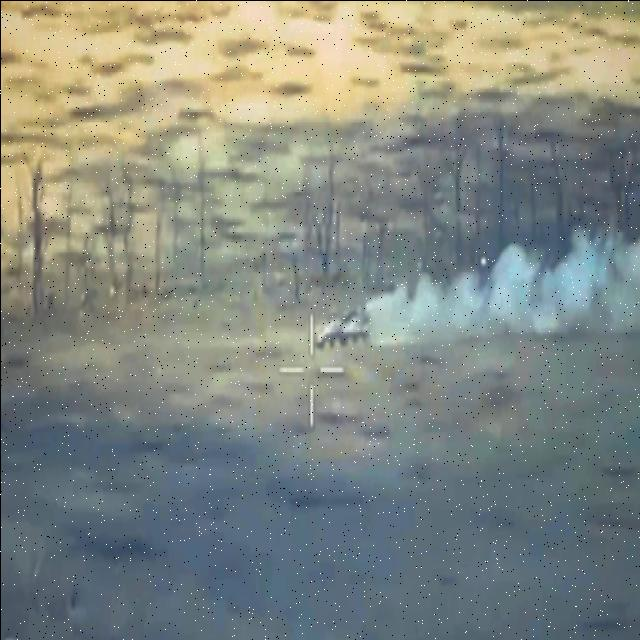APC-IFV: (310, 298, 371, 352)
